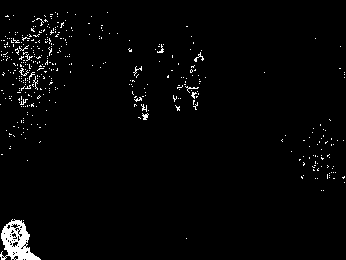person: (129, 65, 152, 121), (185, 63, 203, 110)
